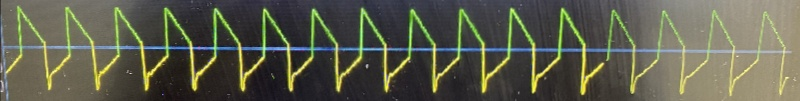peepi: (0, 0, 800, 100)
